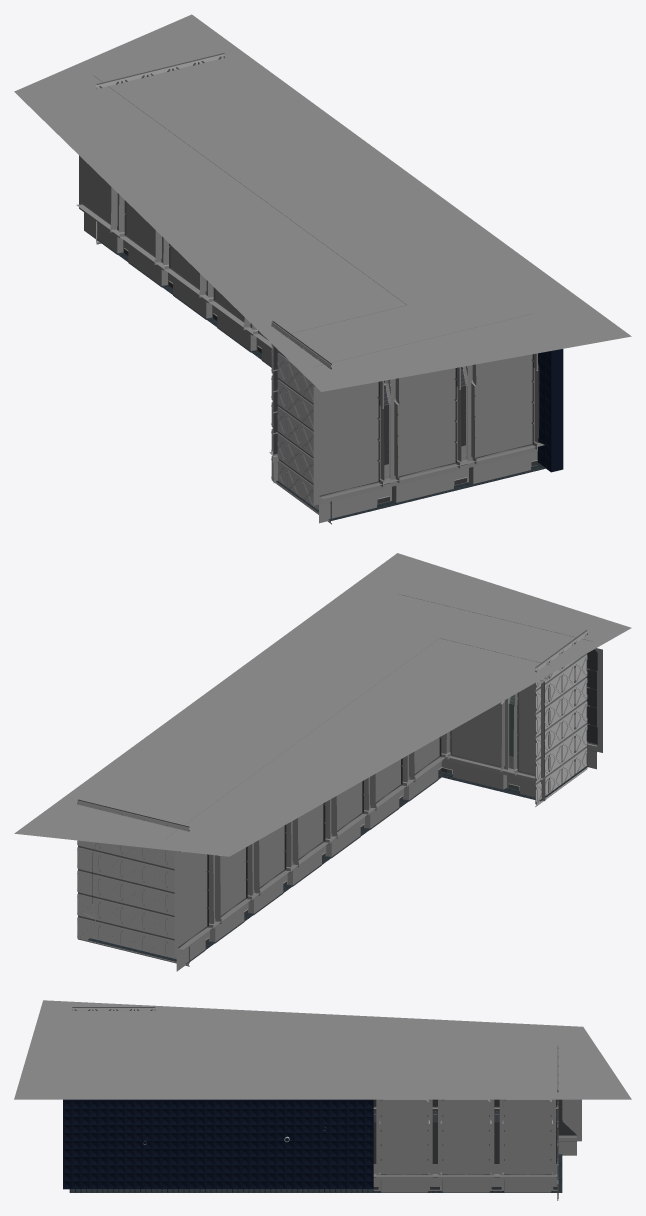
Rendered from Tuotorial (2).fbx.
3 renders of one model, top to bottom at view 1: azimuth 30°, elevation 25°; view 2: azimuth 150°, elevation 25°; view 3: azimuth 270°, elevation 25°, orthographic. The views are drawn at different scales.
Visible parts, largest first — view 1: Ceiling, Wall, WallXXX, UnrapWall, Floor, WallXXX.001; view 2: Ceiling, Wall, WallXXX.001, WallXXX, Floor; view 3: Ceiling, UnrapWall, Wall, Floor, WallXXX, WallXXX.001.
Boxes of the visible parts, left/top/right/bottom form: Ceiling: left=14, top=14, right=631, bottom=391; Wall: left=76, top=75, right=544, bottom=523; WallXXX: left=271, top=321, right=331, bottom=524; UnrapWall: left=537, top=349, right=563, bottom=472; Floor: left=93, top=236, right=545, bottom=521; WallXXX.001: left=96, top=53, right=224, bottom=244; Ceiling: left=14, top=553, right=631, bottom=856; Wall: left=84, top=594, right=602, bottom=971; WallXXX.001: left=77, top=799, right=189, bottom=966; WallXXX: left=535, top=630, right=587, bottom=806; Floor: left=88, top=765, right=588, bottom=964; Ceiling: left=14, top=1000, right=631, bottom=1099; UnrapWall: left=63, top=1099, right=373, bottom=1189; Wall: left=373, top=1099, right=581, bottom=1192; Floor: left=69, top=1154, right=562, bottom=1192; WallXXX: left=72, top=1007, right=155, bottom=1010; WallXXX.001: left=557, top=1045, right=558, bottom=1200.
Size of the model in its own units: 3589 by 1901 by 9436.
